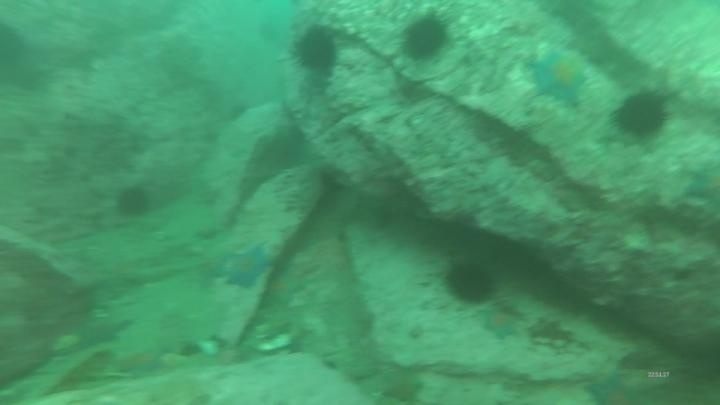echinus: (611, 88, 672, 142), (1, 19, 40, 92), (442, 257, 498, 307), (399, 12, 452, 64), (290, 24, 341, 76), (113, 184, 154, 221)
starfish: (526, 47, 592, 109), (219, 241, 276, 293), (72, 313, 134, 353), (581, 369, 652, 403), (681, 158, 720, 215), (115, 346, 167, 380), (477, 305, 523, 342), (377, 373, 427, 404)
